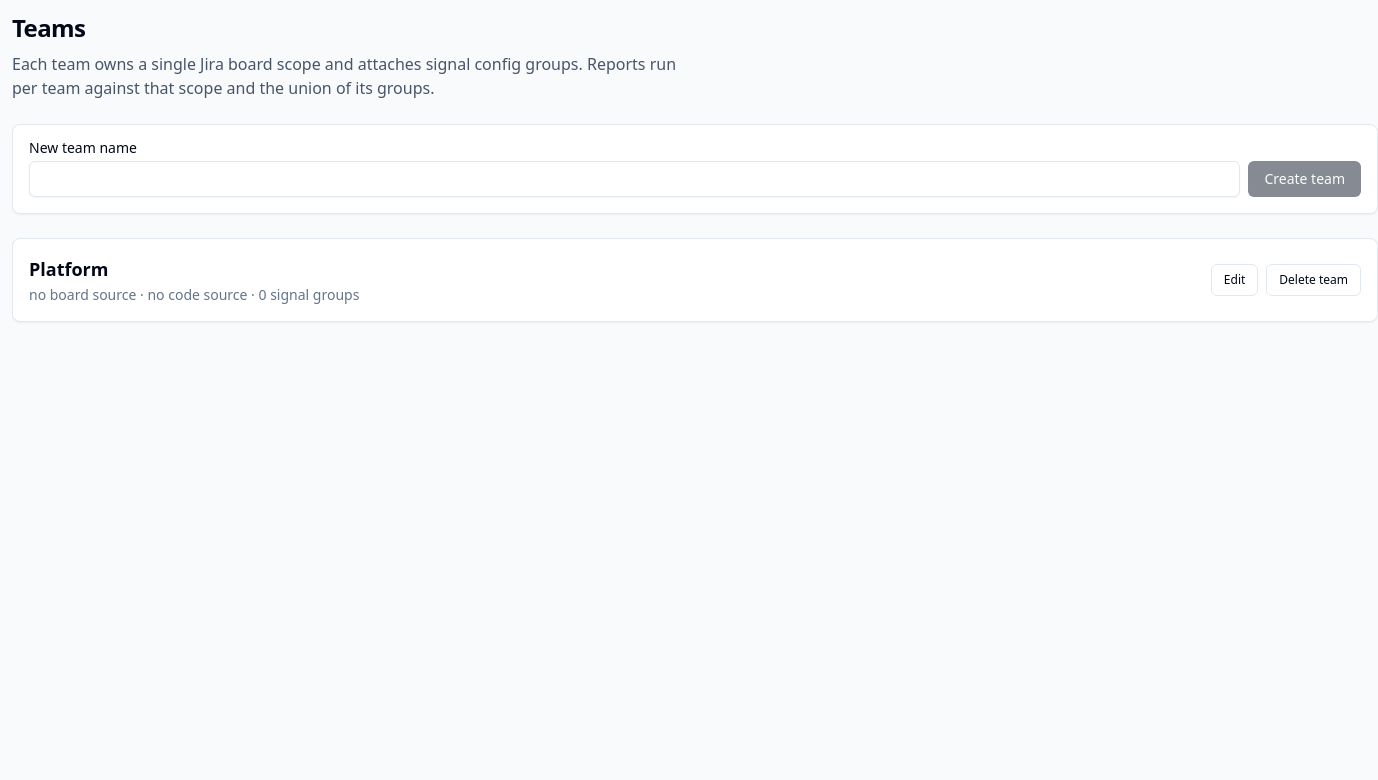
it: TeamsPage — TeamCard saved-vs-draft state › shows edit controls after clicking Edit and collapses them after clicking Done
Expected: the heading "Platform" is shown, [29,257,108,281]
Click the button with aria-label "Edit Platform": coordinates (1235, 280) [1211,264,1258,296]
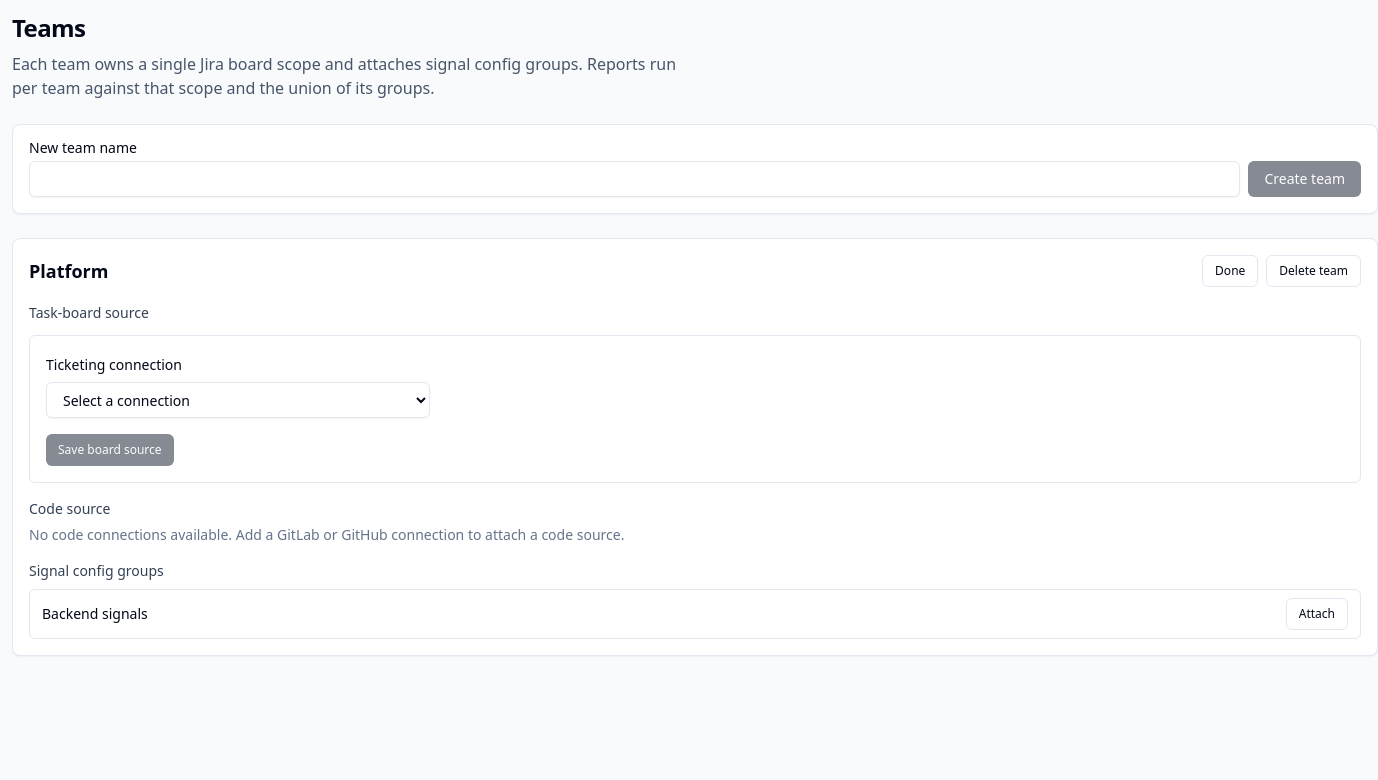
Now the dropdown labelled "Ticketing connection" is shown, box [46,382,430,418]
Note: Done button has a distinct aria-label per team
Click the button with aria-label "Done editing Platform": coordinates (1230, 271) [1202,255,1258,287]
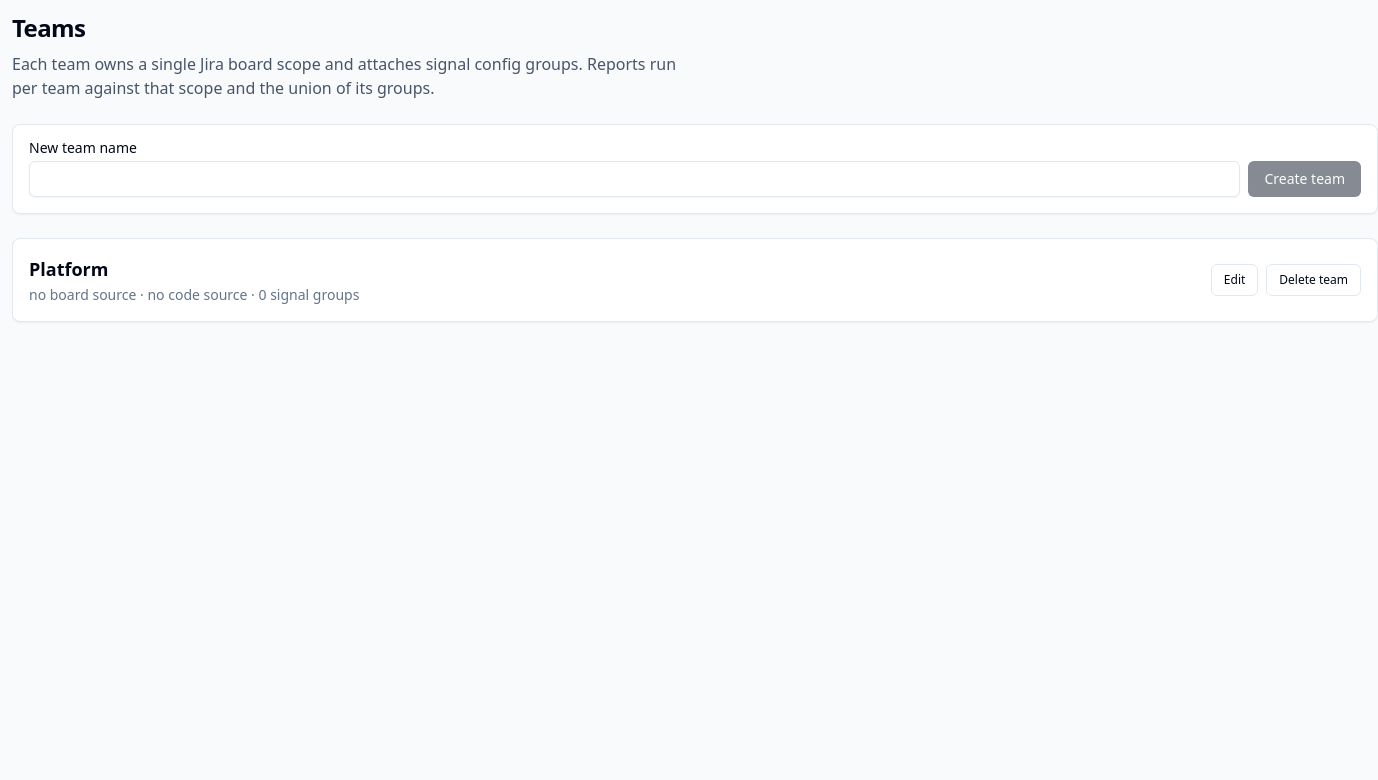
Now the label "Ticketing connection" is gone
Now the button with aria-label "Edit Platform" is shown, box [1211,264,1258,296]
